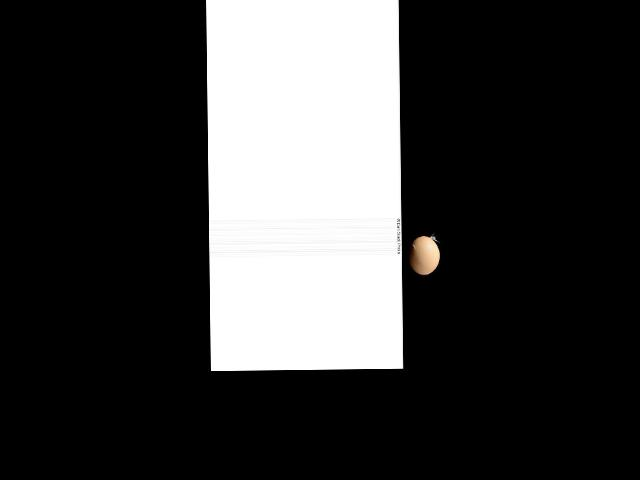egg: (408, 236, 439, 275)
